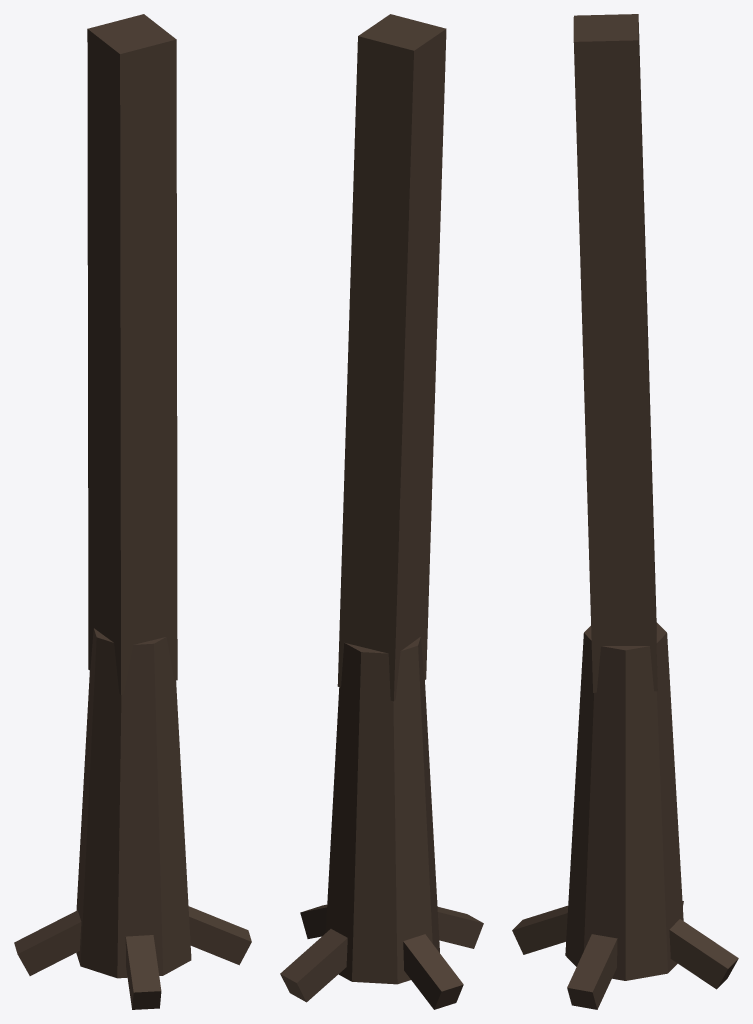
Rendered from tree_pine_s_trunk.fbx.
3 renders of one model, left to right at view 1: azimuth 30°, elevation 25°; view 2: azimuth 150°, elevation 25°; view 3: azimuth 270°, elevation 25°, orthographic.
Parts seen in each view (by area): view 1: tree_pine_s_trunk; view 2: tree_pine_s_trunk; view 3: tree_pine_s_trunk.
Part boxes in pixels (x1,y1,x2,y2): tree_pine_s_trunk: [14, 14, 251, 1009]; tree_pine_s_trunk: [280, 14, 483, 1009]; tree_pine_s_trunk: [512, 14, 738, 1009].
Size of the model in its own units: 294 by 1338 by 294.
